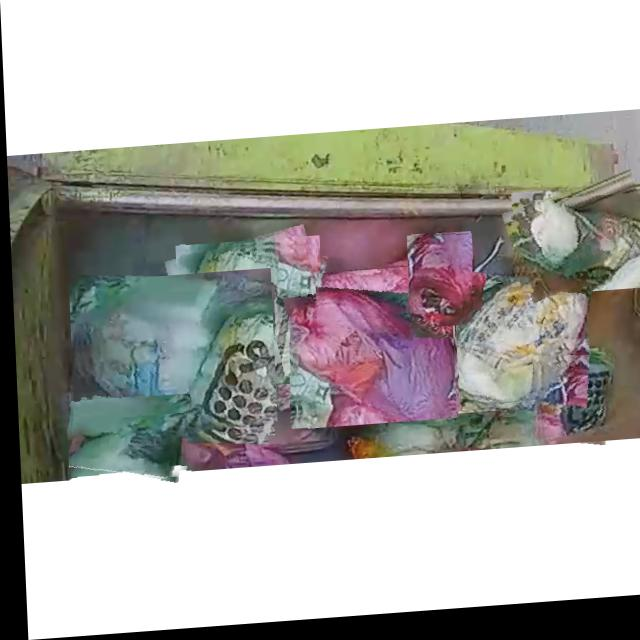general_trashbag: (74, 276, 269, 439), (181, 248, 316, 381), (445, 288, 584, 413), (513, 209, 640, 296), (64, 416, 185, 482), (534, 365, 611, 448)
other_trashbag: (287, 304, 451, 428), (314, 273, 413, 328), (407, 241, 465, 334)
